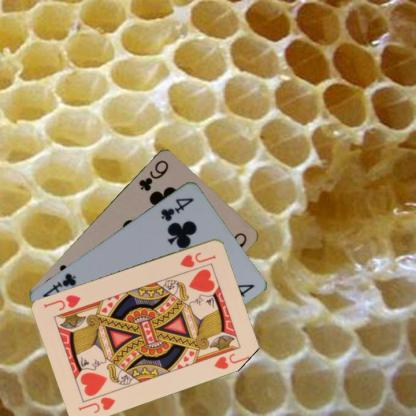4c: (158, 195, 195, 222)
9c: (136, 158, 170, 192)
Jh: (178, 249, 218, 269), (76, 394, 116, 414)
